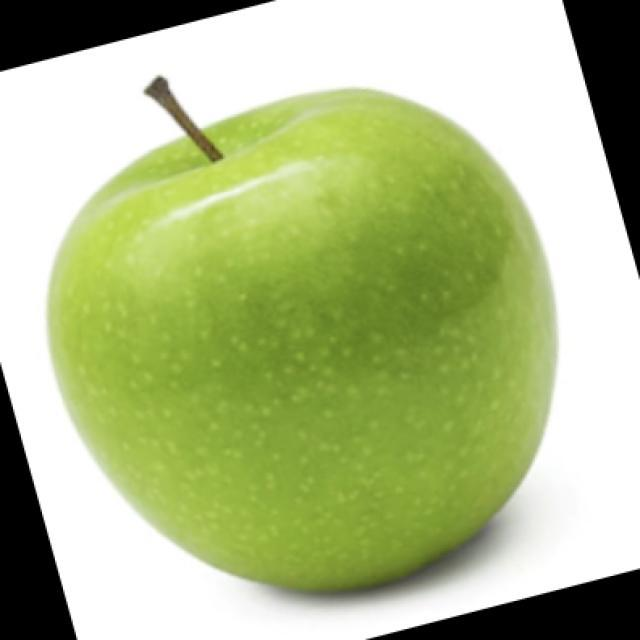Fresh Apple: (85, 93, 553, 615)
